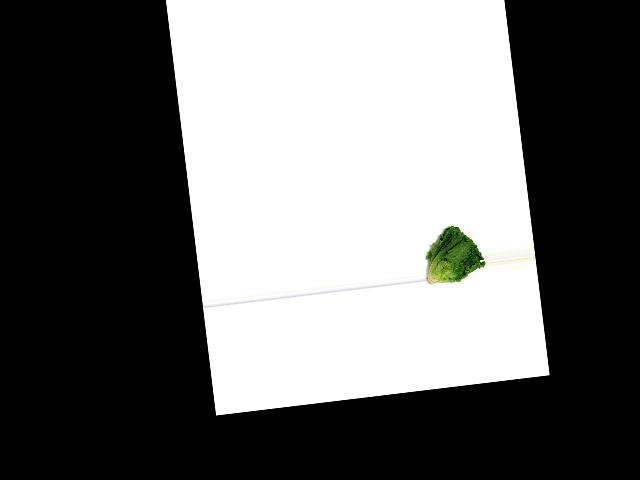lettuce: (418, 217, 487, 290)
